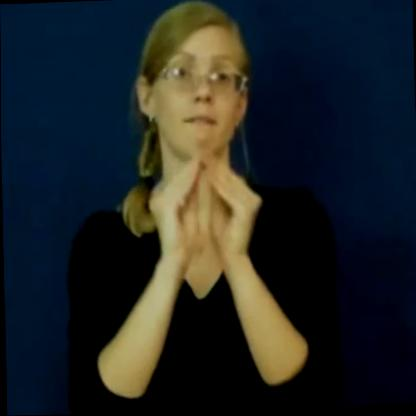Fix: (136, 152, 274, 280)
